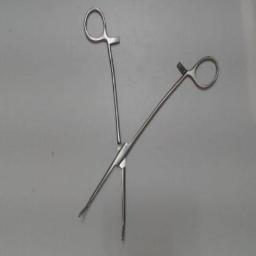Lahey Forceps: (74, 2, 222, 244)
